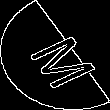M_NE: (13, 22, 97, 88)
